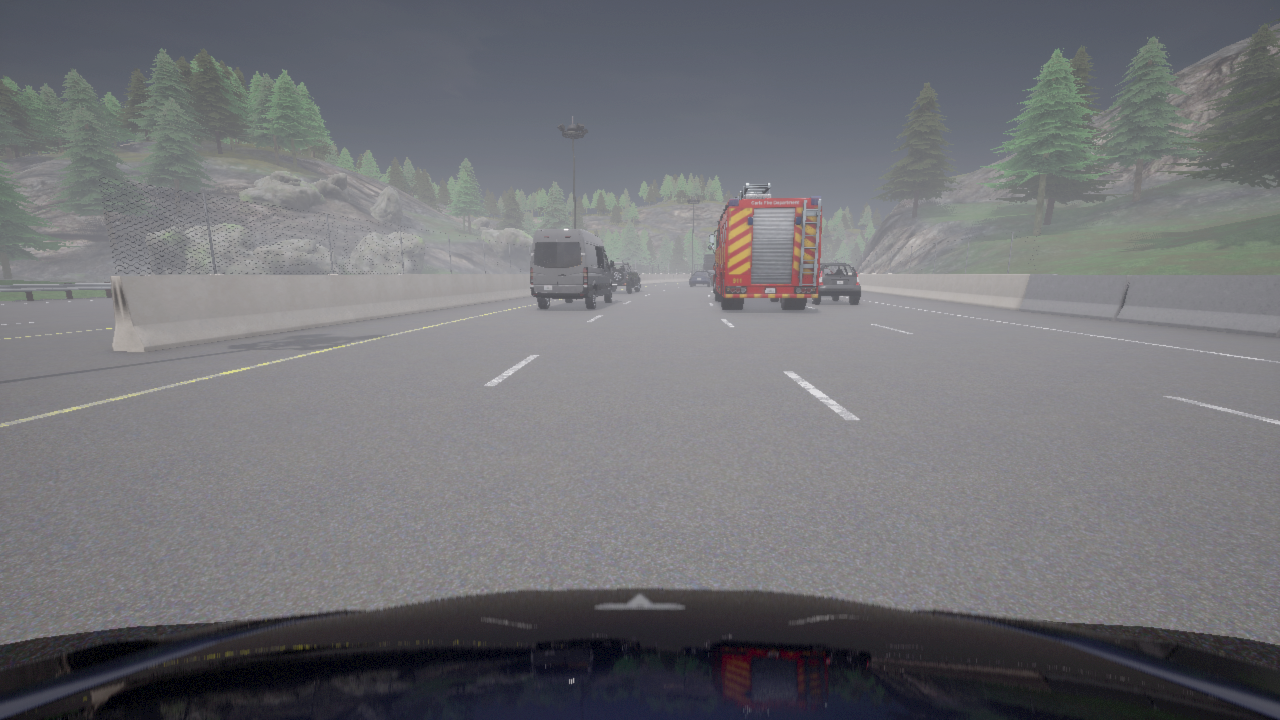cyclist: (0, 588, 1279, 719), (708, 183, 821, 309), (530, 229, 613, 308), (812, 263, 861, 304), (610, 262, 640, 293), (689, 271, 712, 286), (703, 254, 714, 270), (705, 270, 714, 275)
